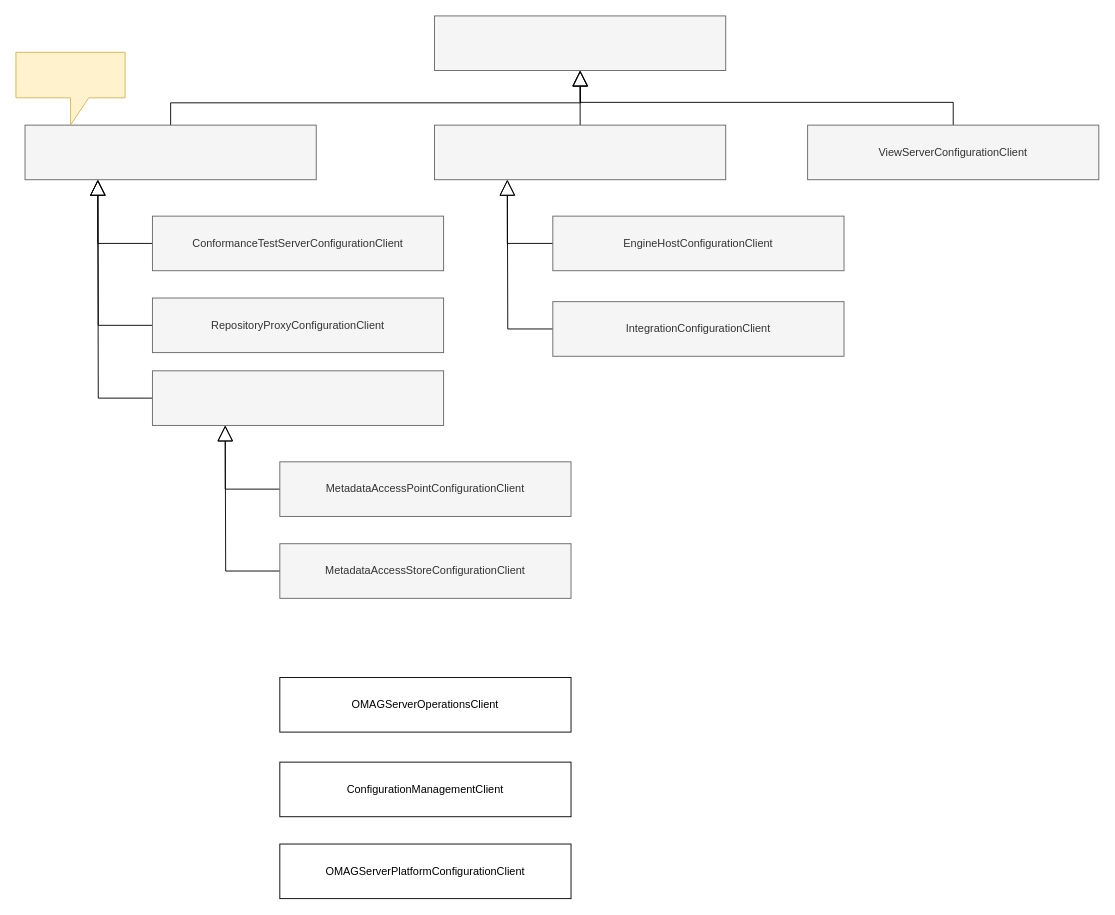
Image size: 1115x915. Some labels were removed from this diagram. Each missing label, with the centre of its shape:
"CohortMemberConfigurationClient" goes at [170,152].
"GovernanceServerConfigurationClient" goes at [580,152].
"MetadataAccessServerConfigurationClient" goes at [298,397].
"OMAGServerConfigurationClient" goes at [580,43].
